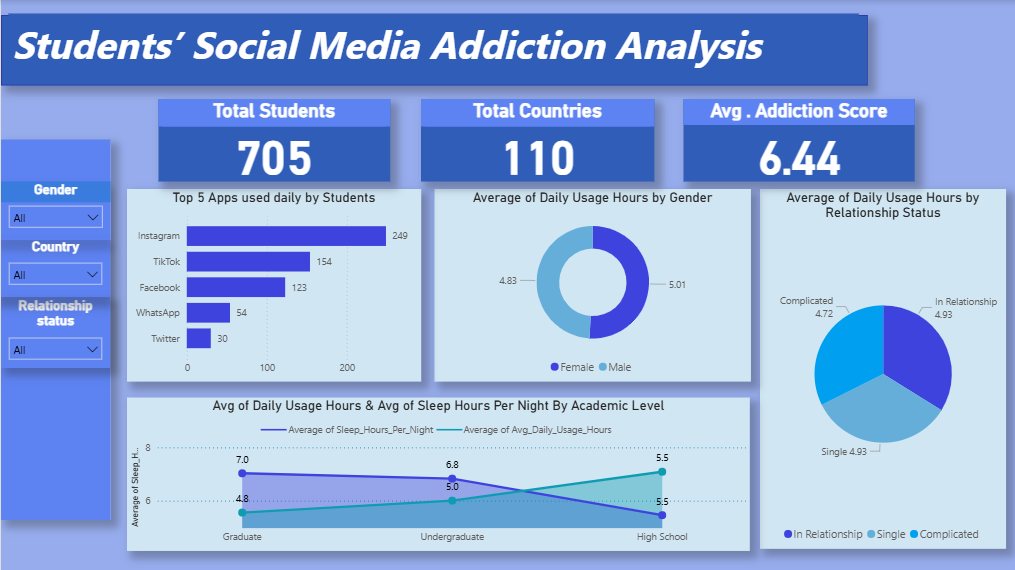

Layout of this report page (visuals, bound fields, positions):
{"tool":"powerbi","page":{"name":"Page 1","canvas":[1280,720],"ordinal":0},"visuals":[{"type":"shape","box":[0,18.9,1092.3,88.8],"z":0},{"type":"shape","box":[0,175.8,137.9,479.5],"z":1},{"type":"pieChart","title":"Average of Daily Usage Hours by Relationship Status","fields":{"Category":["Students Social Media Addiction.Relationship_Status"],"Y":["Avg(Students Social Media Addiction.Avg_Daily_Usage_Hours)"]},"box":[957,237.8,309.7,453.5],"z":3},{"type":"card","title":"Avg . Addiction Score ","fields":{"Values":["Avg(Students Social Media Addiction.Addicted_Score)"]},"box":[859.1,123.9,291.7,103.9],"z":8},{"type":"textbox","box":[10,17.9,1071.6,85.6],"z":9},{"type":"donutChart","title":"Average of Daily Usage Hours by Gender","fields":{"Category":["Students Social Media Addiction.Gender"],"Y":["Avg(Students Social Media Addiction.Avg_Daily_Usage_Hours)"]},"box":[545.7,239,398.3,243],"z":10},{"type":"barChart","title":"Top 5 Apps used daily by Students ","fields":{"Category":["Students Social Media Addiction.Most_Used_Platform"],"Y":["CountNonNull(Students Social Media Addiction.Student_ID)"]},"box":[159.3,239,370.5,243],"z":11},{"type":"lineChart","title":"Avg of Daily Usage Hours & Avg of Sleep Hours Per Night By Academic Level","fields":{"Category":["Students Social Media Addiction.Academic_Level"],"Y":["Avg(Students Social Media Addiction.Sleep_Hours_Per_Night)"],"Y2":["Avg(Students Social Media Addiction.Avg_Daily_Usage_Hours)"]},"box":[159.3,499.9,784.7,193.2],"z":12},{"type":"card","title":"Total Countries","fields":{"Values":["Count(Students Social Media Addiction.Country)"]},"box":[529.5,123.9,293.7,103.9],"z":13},{"type":"card","title":"Total Students","fields":{"Values":["CountNonNull(Students Social Media Addiction.Student_ID)"]},"box":[197.8,123.9,291.7,103.9],"z":14},{"type":"slicer","title":"Gender","fields":{"Values":["Students Social Media Addiction.Gender"]},"box":[0,227.8,137.9,73.9],"z":15},{"type":"slicer","title":"Relationship status ","fields":{"Values":["Students Social Media Addiction.Relationship_Status"]},"box":[0,374.4,137.4,89.6],"z":16},{"type":"slicer","title":"Country","fields":{"Values":["Students Social Media Addiction.Country"]},"box":[0,300.8,137.4,73.7],"z":17}]}

Visuals, with their boxes in screenshot pixels (x1, y1, x2, y2), scaled from the page's 1280x720 canvas onto the 1015x570 screenshot:
shape: bbox=[0, 15, 866, 85]
shape: bbox=[0, 139, 109, 519]
"Average of Daily Usage Hours by Relationship Status" pieChart: bbox=[759, 188, 1004, 547]
"Avg . Addiction Score " card: bbox=[681, 98, 913, 180]
textbox: bbox=[8, 14, 858, 82]
"Average of Daily Usage Hours by Gender" donutChart: bbox=[433, 189, 749, 382]
"Top 5 Apps used daily by Students " barChart: bbox=[126, 189, 420, 382]
"Avg of Daily Usage Hours & Avg of Sleep Hours Per Night By Academic Level" lineChart: bbox=[126, 396, 749, 549]
"Total Countries" card: bbox=[420, 98, 653, 180]
"Total Students" card: bbox=[157, 98, 388, 180]
"Gender" slicer: bbox=[0, 180, 109, 239]
"Relationship status " slicer: bbox=[0, 296, 109, 367]
"Country" slicer: bbox=[0, 238, 109, 296]
